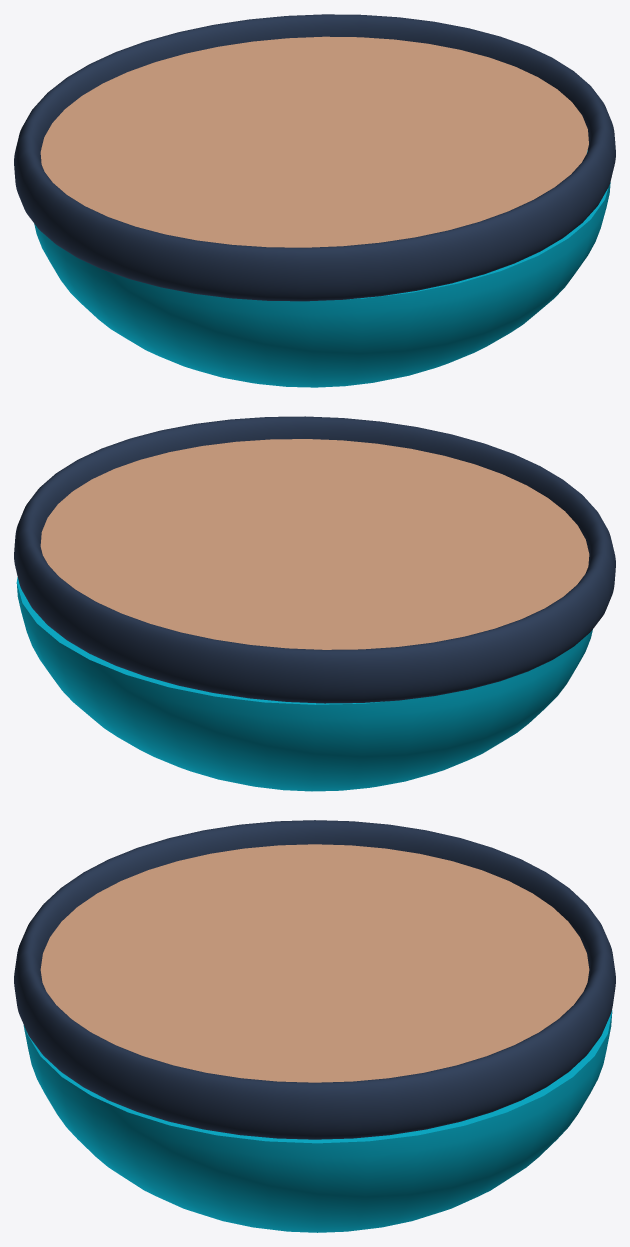
Rendered from blue_bowl-wLbjPs9c.glb.
The picture shows the model from 3 angles, top to bottom: view 1: azimuth 30°, elevation 25°; view 2: azimuth 150°, elevation 25°; view 3: azimuth 270°, elevation 25°; orthographic projection. The views are drawn at different scales.
Visible parts, largest first — view 1: Object_2.001, Object_8.001, Object_9.001; view 2: Object_2.001, Object_8.001, Object_9.001; view 3: Object_2.001, Object_8.001, Object_9.001.
Part boxes in pixels (box(x1,y1,x2,y2)): Object_2.001: box(40, 36, 588, 247); Object_8.001: box(14, 14, 615, 301); Object_9.001: box(34, 150, 610, 387); Object_2.001: box(40, 439, 589, 649); Object_8.001: box(14, 416, 615, 703); Object_9.001: box(16, 577, 592, 791); Object_2.001: box(40, 844, 589, 1082); Object_8.001: box(14, 820, 615, 1139); Object_9.001: box(23, 1010, 612, 1232).
Size of the model in its own units: 0.1928 by 0.0764 by 0.1783.
